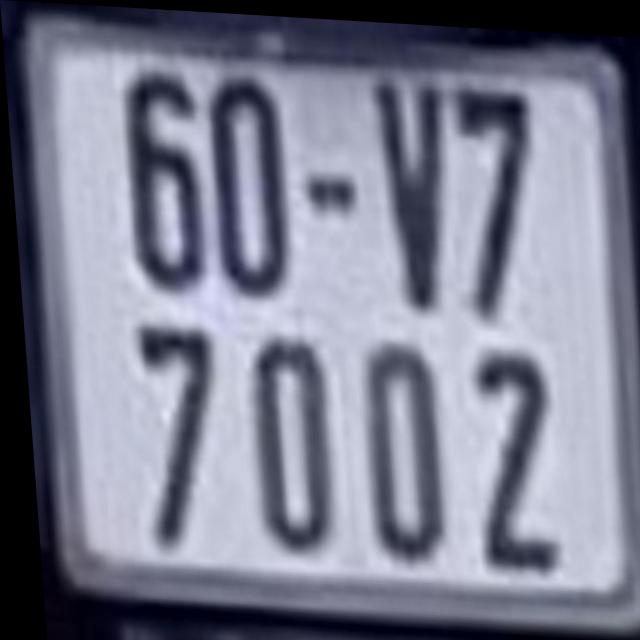0: (358, 333, 442, 561), (208, 72, 287, 289), (243, 331, 323, 544)
2: (466, 339, 554, 564)
6: (118, 66, 209, 295)
7: (450, 80, 544, 320), (133, 315, 224, 541)
V: (367, 74, 451, 302)
